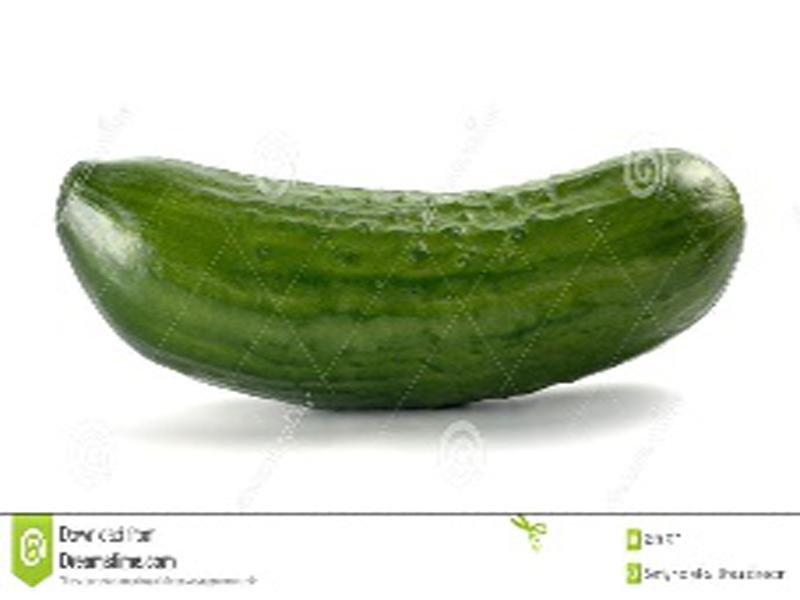Cucumber: (60, 156, 744, 410)
